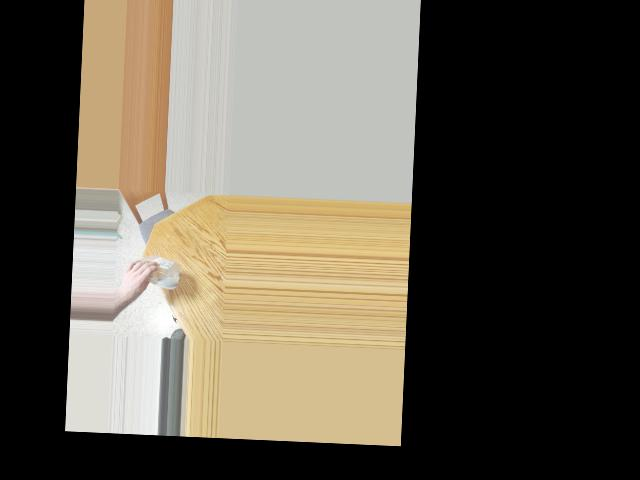cheese: (129, 255, 167, 290)
